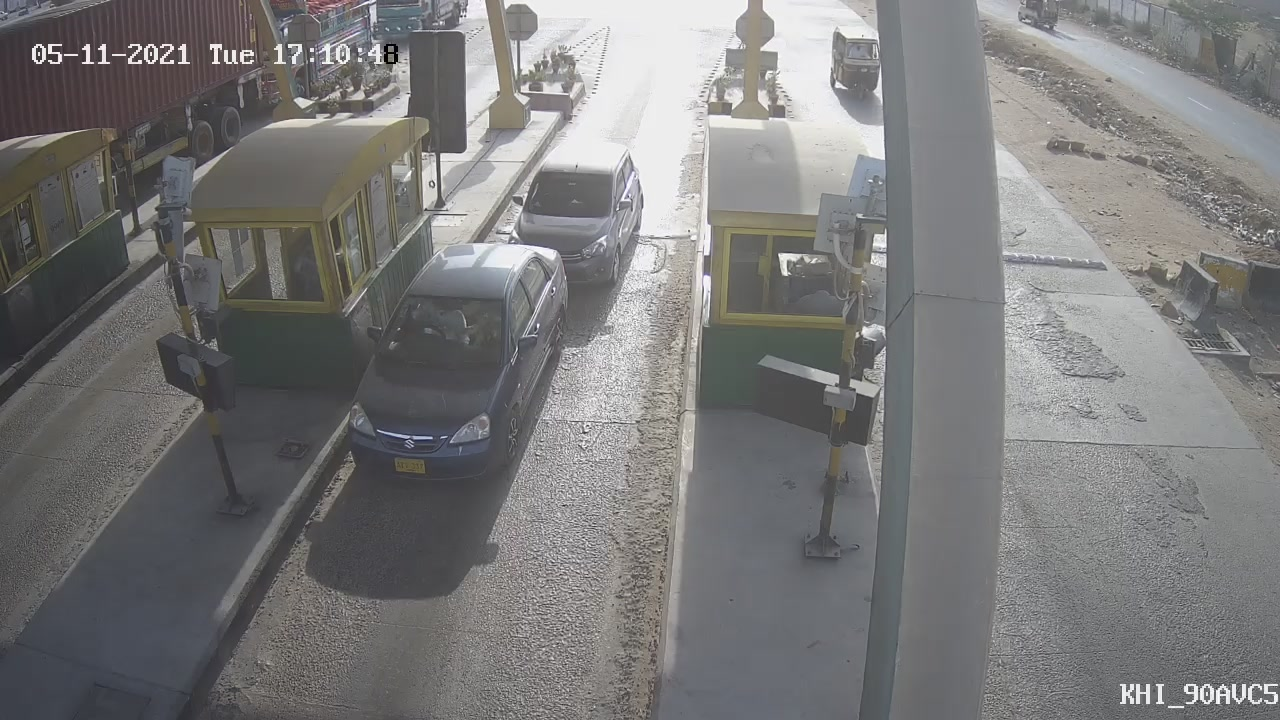F1: (327, 229, 591, 500), (485, 131, 660, 307)
